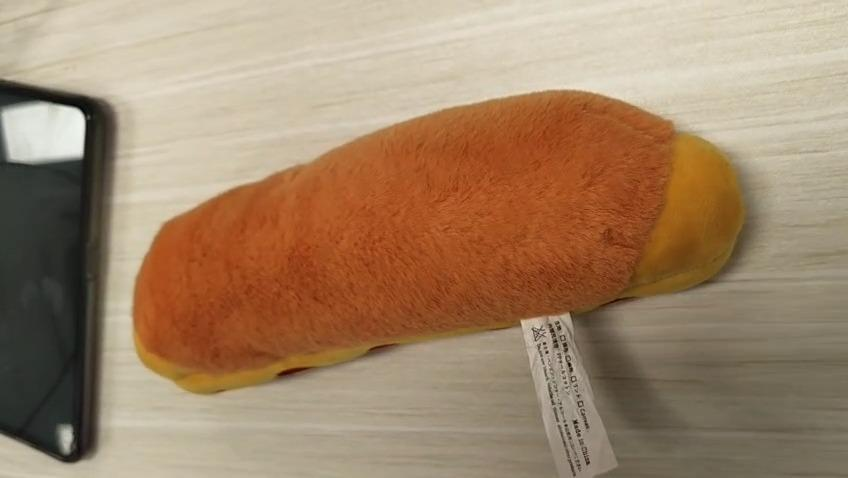hotdog: (131, 89, 748, 396)
